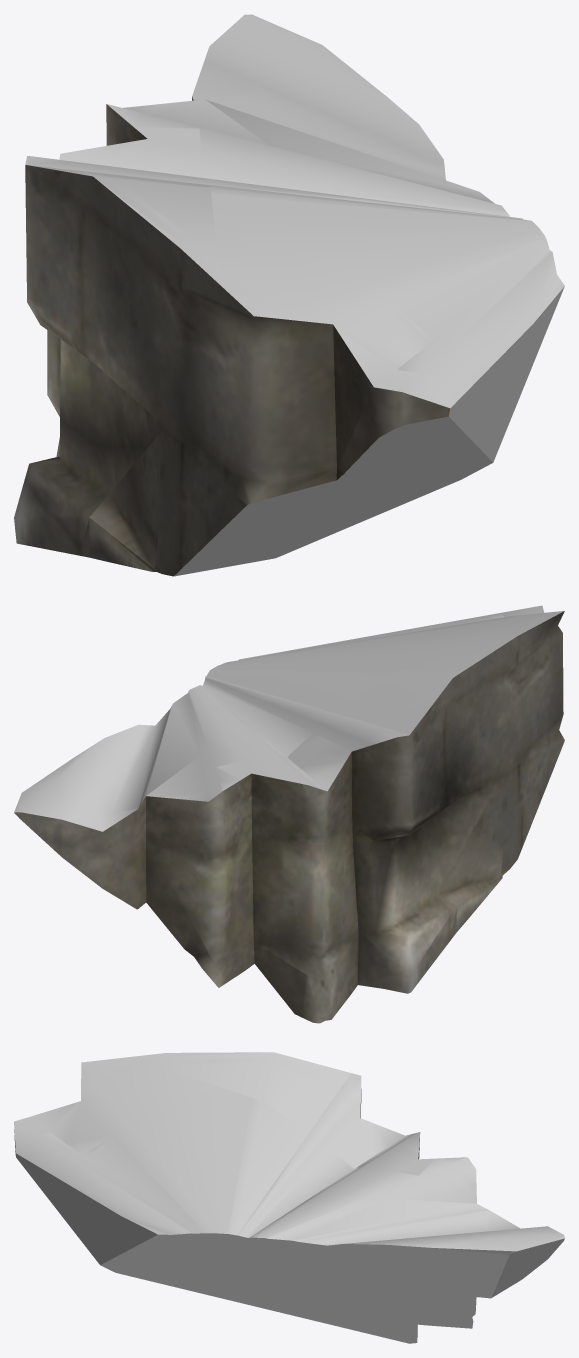
Rendered from ColumnDamage08_24.fbx.
3 views of the same model, one above another, from view 1: azimuth 30°, elevation 25°; view 2: azimuth 150°, elevation 25°; view 3: azimuth 270°, elevation 25° (orthographic). The views are drawn at different scales.
Visible parts, largest first — view 1: ColumnDamage08_DM.024; view 2: ColumnDamage08_DM.024; view 3: ColumnDamage08_DM.024.
Boxes of the visible parts, x1,y1,x2,y2 form: ColumnDamage08_DM.024: (14,14,564,576); ColumnDamage08_DM.024: (14,605,564,1023); ColumnDamage08_DM.024: (14,1052,564,1343).
Bounding box in the file's own units: 161 × 155 × 295.
